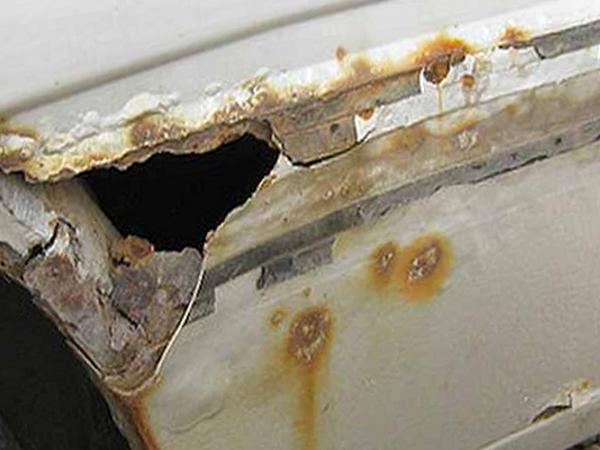rust: (229, 75, 403, 187), (258, 299, 352, 450), (366, 233, 479, 301), (409, 33, 507, 98), (86, 220, 177, 284), (105, 114, 172, 162)
